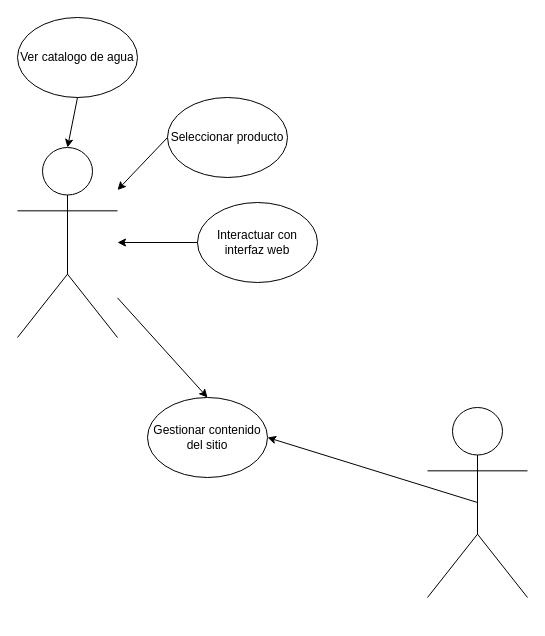
The diagram is 545 pixels wide and 636 high, and some of its shapes have lost their labels. The shapes that lost their labels are listed below. From the top down, each one's box as (x1, y1, x2, y2) in pixels, then its label:
(16, 146, 118, 338): Usuario
(426, 406, 528, 598): Administrador
